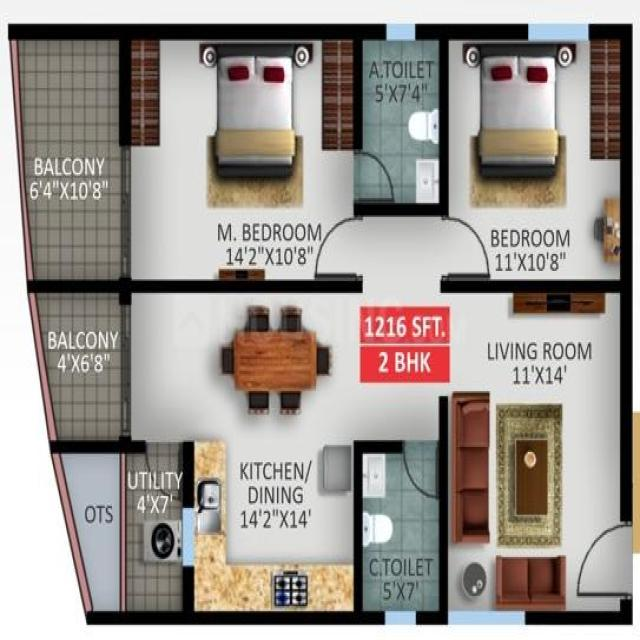Balcony-Sitout: (12, 29, 123, 281), (25, 282, 124, 443)
Bedroom: (447, 26, 628, 284)
Bedroom with Toilet: (124, 34, 358, 284)
Dining: (218, 304, 334, 419)
Enterance-Foyer: (574, 517, 634, 602)
Kitchen: (191, 445, 356, 622)
Living: (445, 282, 629, 625)
Toilet: (358, 33, 447, 215), (354, 443, 442, 625)
Utility: (123, 445, 190, 626)
